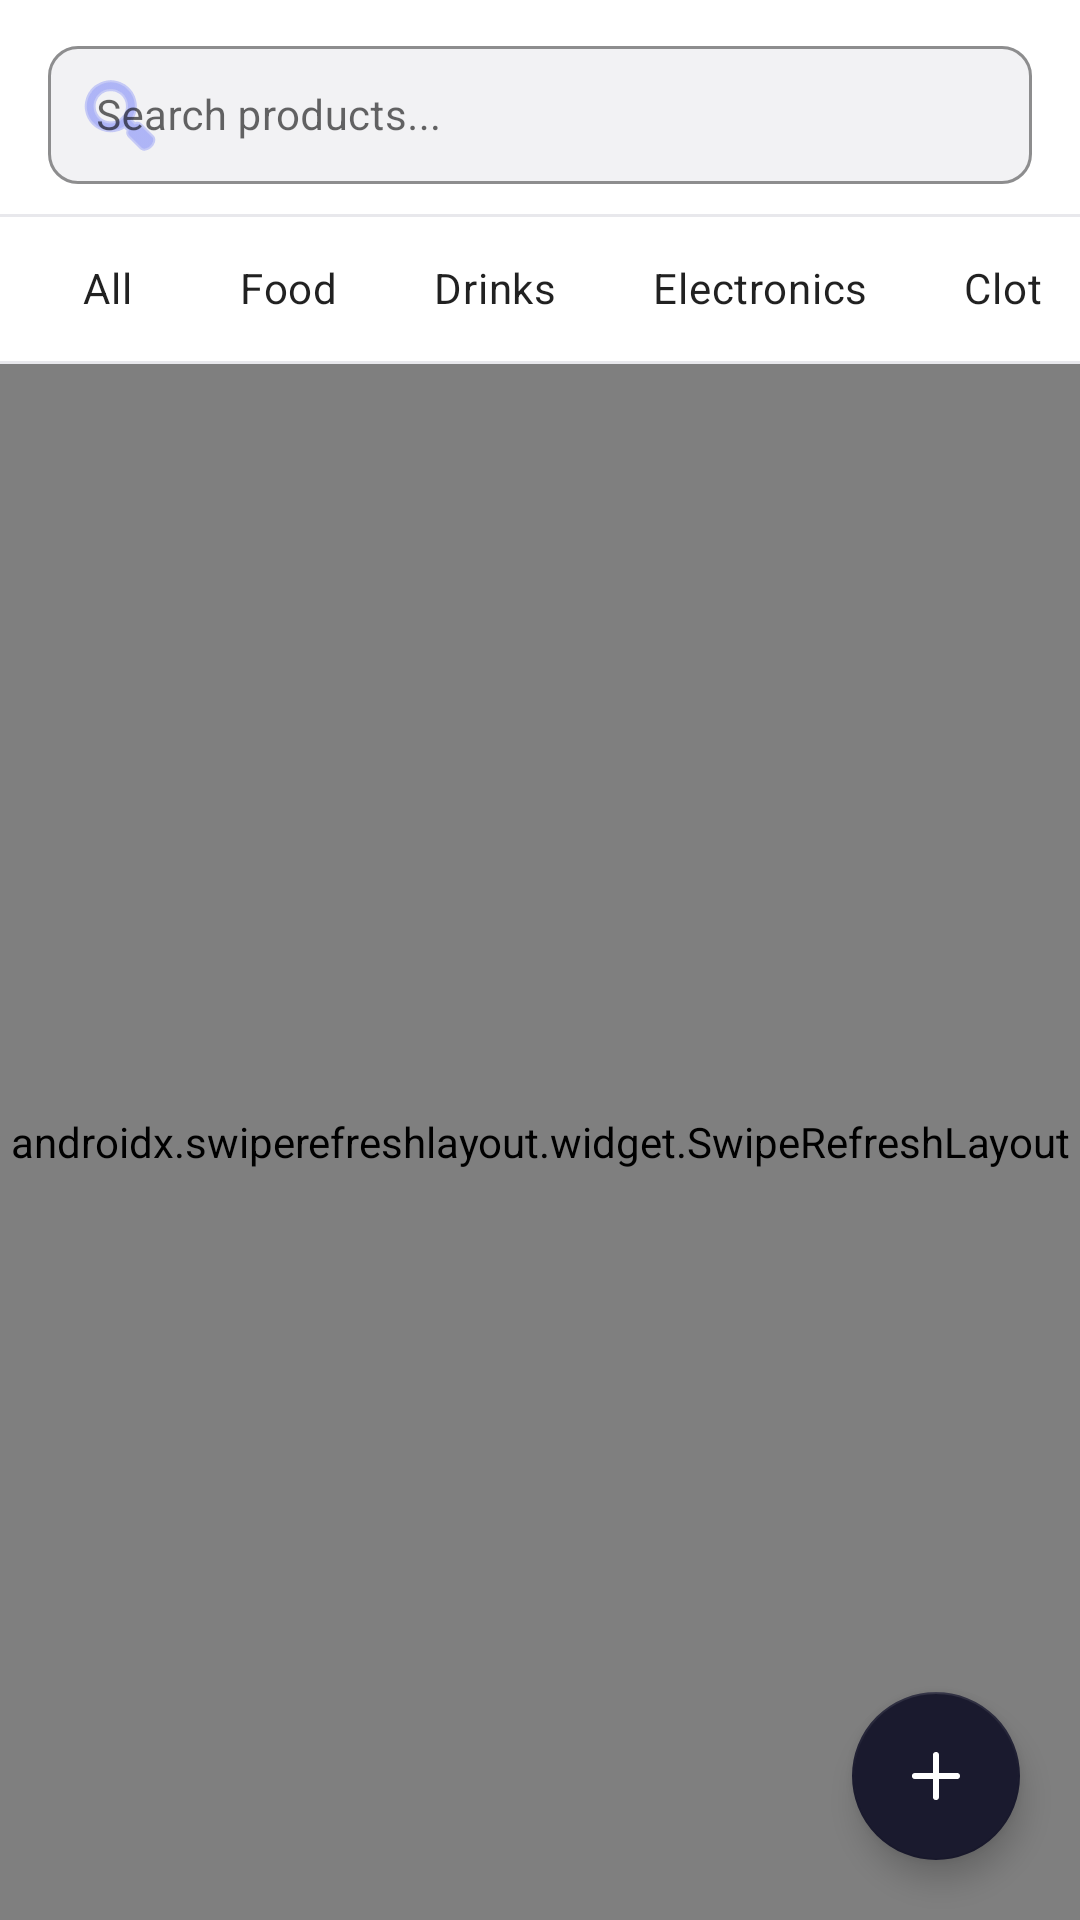

Screen size 1080 × 1920. Icon name, then its center in pixels as point (x, y):
Add product: point (936, 1776)
